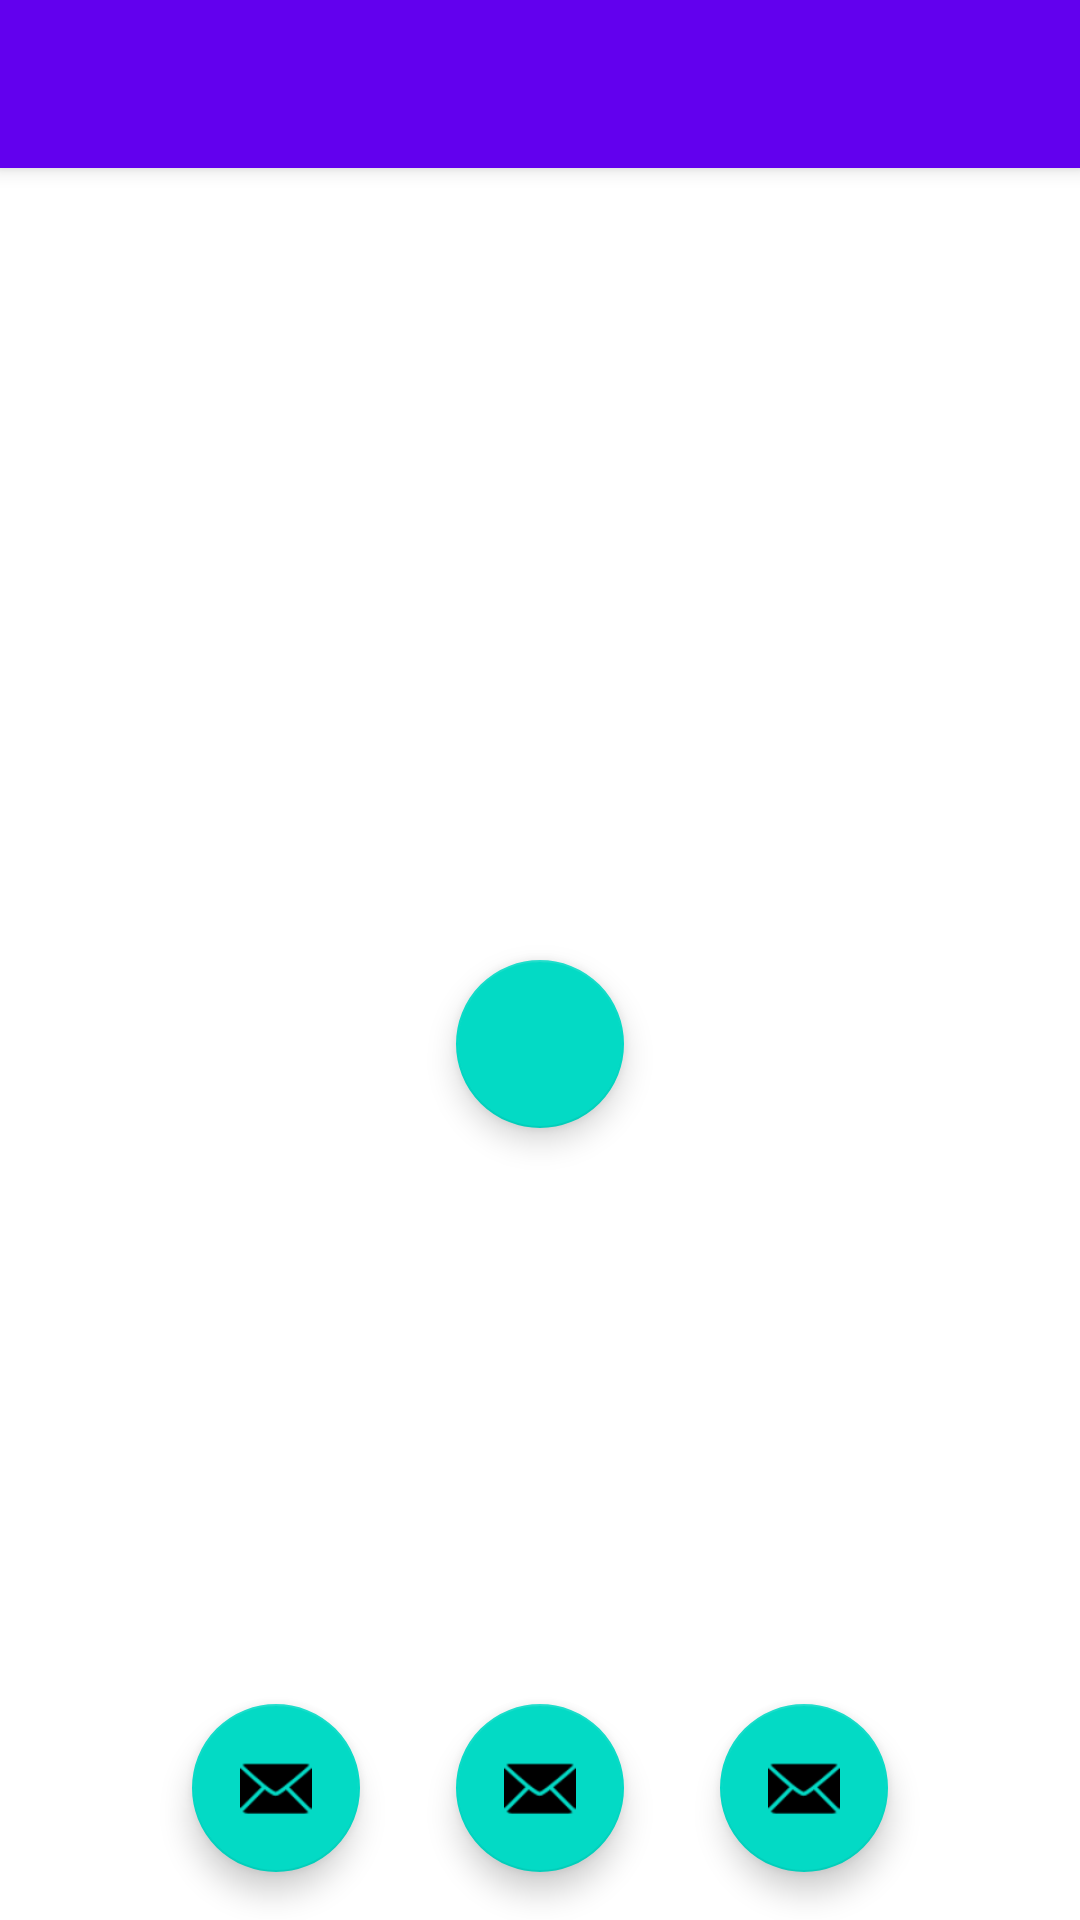

Named icons in this screenshot (1080px×1920px) and their bounding boxes, BBox(x1, y1, x2, y2):
email: BBox(192, 1704, 360, 1872), BBox(456, 1704, 624, 1872), BBox(720, 1704, 888, 1872)
